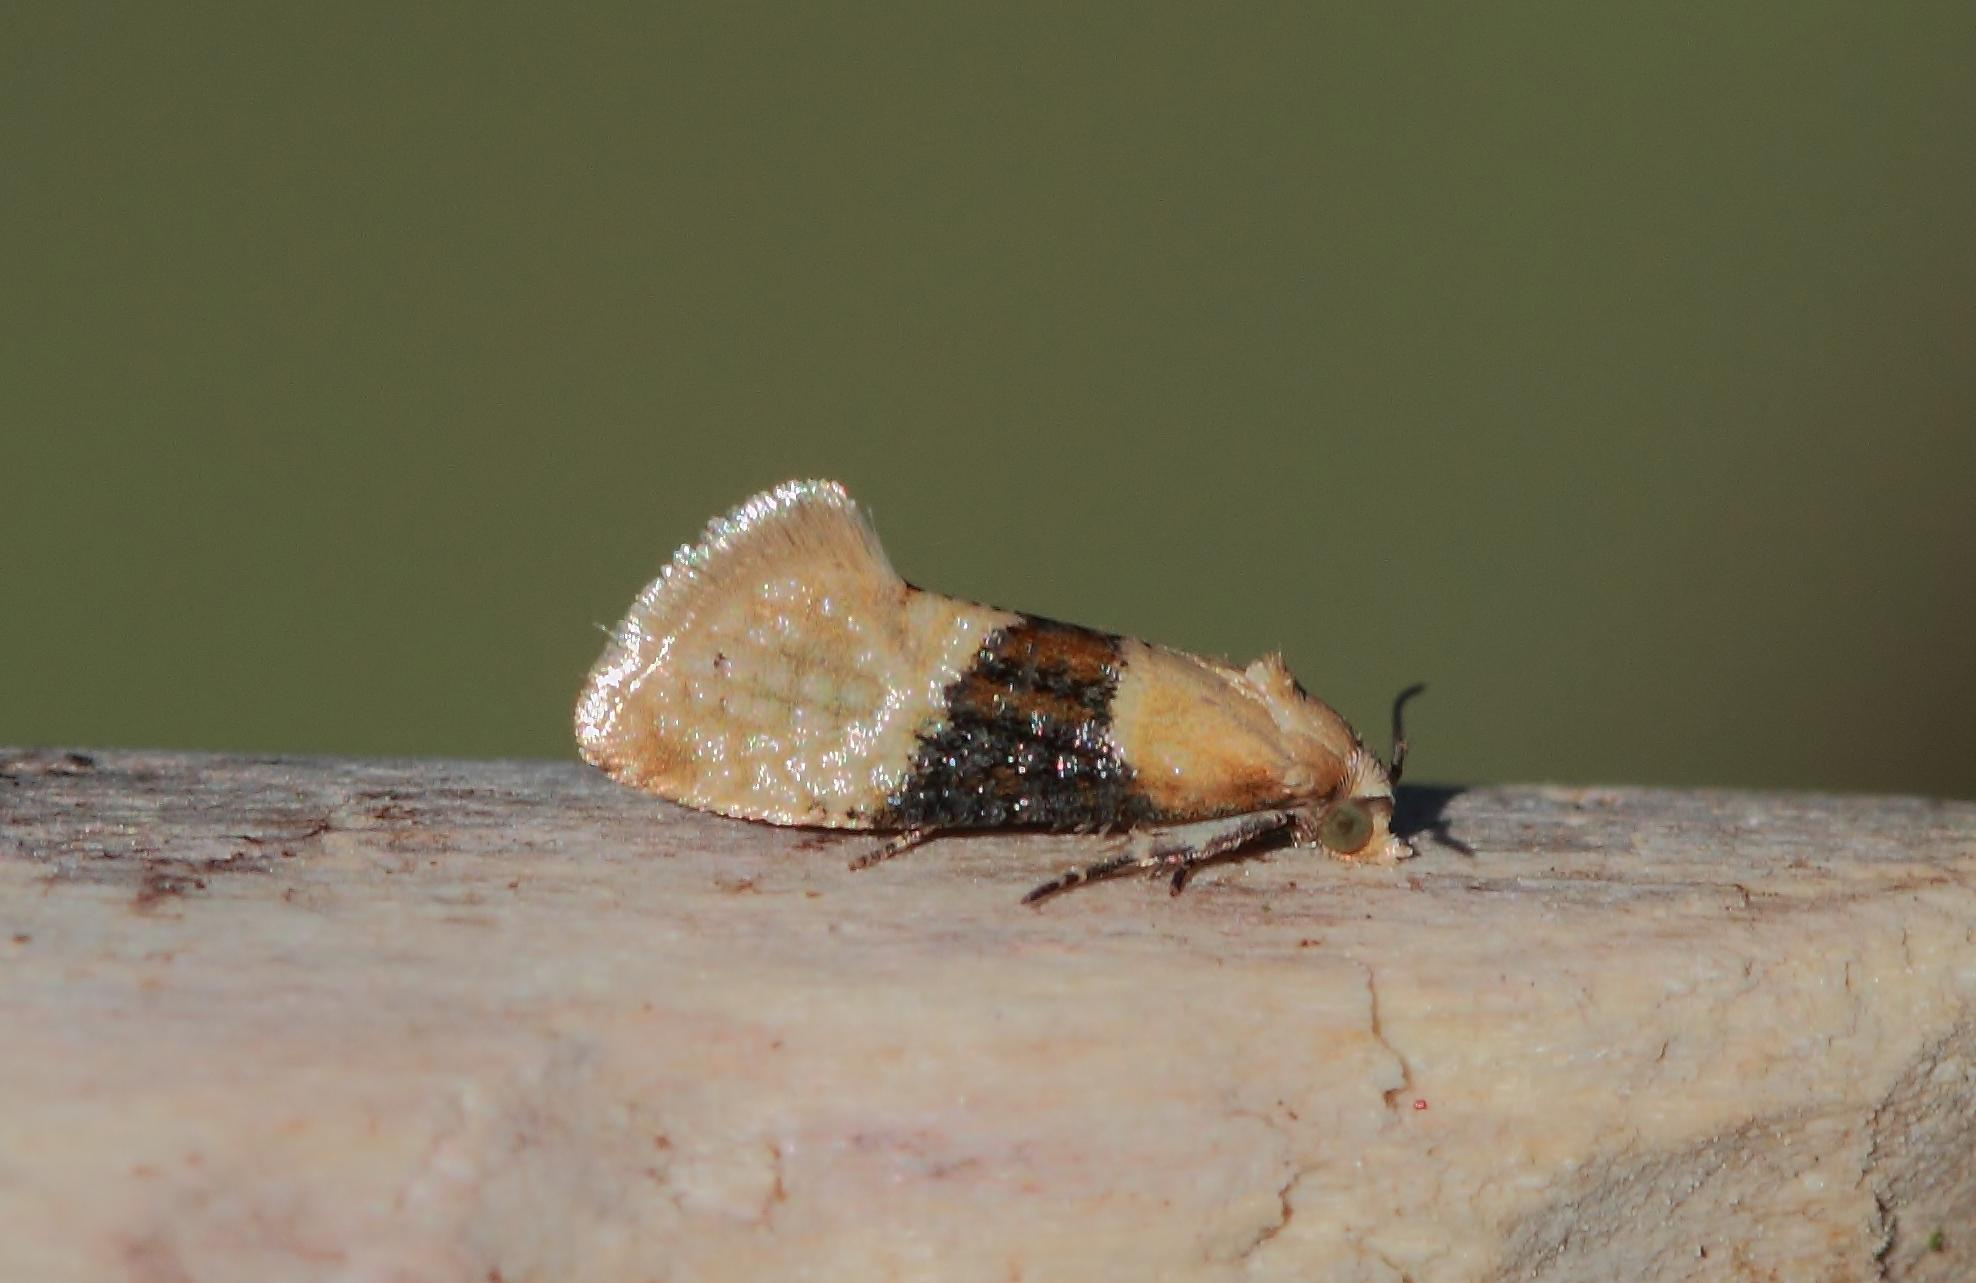Eupoecilia Ambiguella: (565, 467, 1437, 919)
